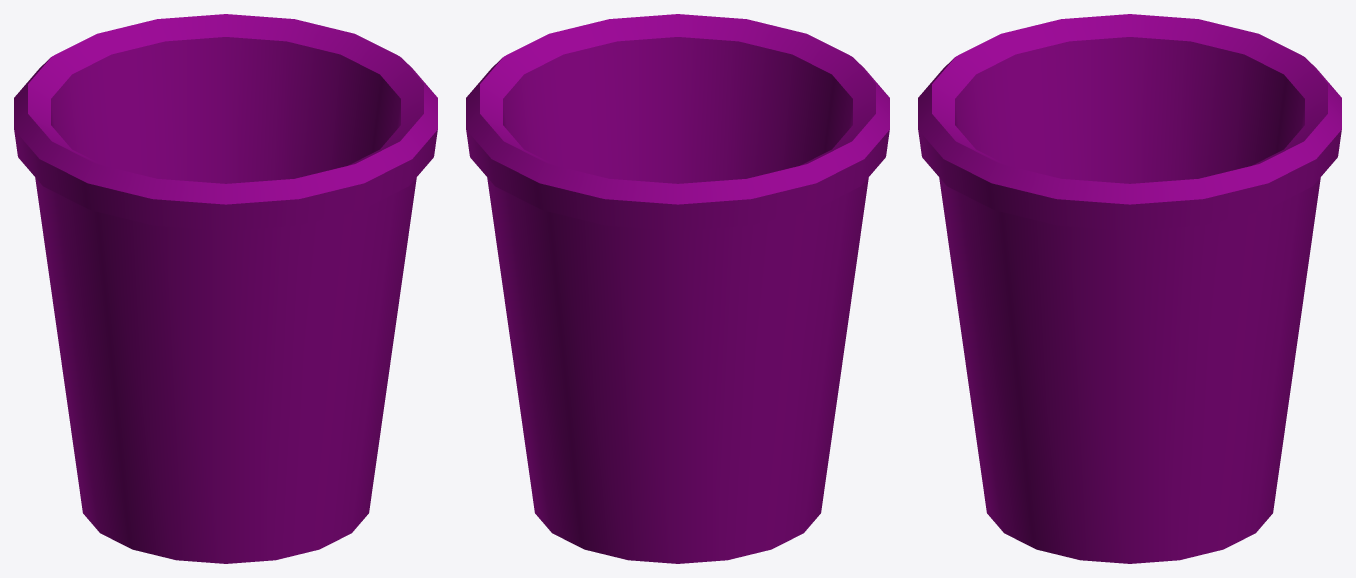
File: Dustbin.FBX
3 views of the same model, side by side, from view 1: azimuth 30°, elevation 25°; view 2: azimuth 150°, elevation 25°; view 3: azimuth 270°, elevation 25° (orthographic).
Visible parts, largest first — view 1: PRP_Dustbin1_1; view 2: PRP_Dustbin1_1; view 3: PRP_Dustbin1_1.
Part boxes in pixels (x1,y1,x2,y2): PRP_Dustbin1_1: (14,14,437,563); PRP_Dustbin1_1: (466,14,889,563); PRP_Dustbin1_1: (918,14,1341,563).
Bounding box in the file's own units: 33.6 × 34.76 × 33.08.
